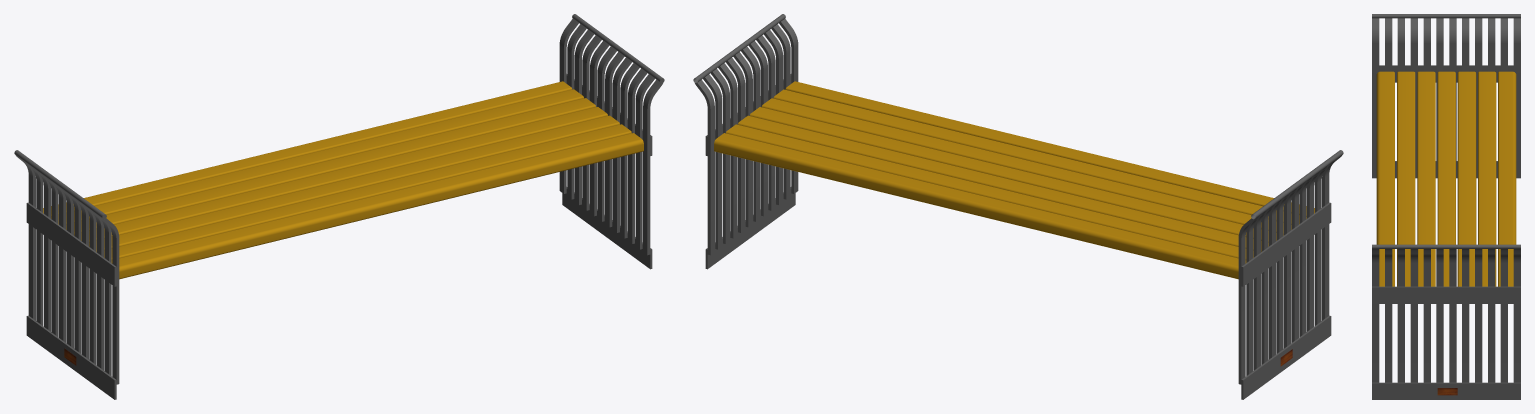
3 views of the same model, side by side, from view 1: azimuth 30°, elevation 25°; view 2: azimuth 150°, elevation 25°; view 3: azimuth 270°, elevation 25° (orthographic). The views are drawn at different scales.
Parts seen in each view (by area): view 1: mesh43_mesh43-geometry, mesh35_mesh35-geometry, mesh39_mesh39-geometry, mesh37_mesh37-geometry, mesh41_mesh41-geometry, mesh33_mesh33-geometry, mesh45_mesh45-geometry, mesh2_mesh2-geometry, mesh4_mesh4-geometry, mesh65_mesh65-geometry, mesh49_mesh49-geometry, mesh64_mesh64-geometry (+24 smaller); view 2: mesh45_mesh45-geometry, mesh33_mesh33-geometry, mesh41_mesh41-geometry, mesh37_mesh37-geometry, mesh39_mesh39-geometry, mesh35_mesh35-geometry, mesh43_mesh43-geometry, mesh2_mesh2-geometry, mesh4_mesh4-geometry, mesh58_mesh58-geometry, mesh49_mesh49-geometry, mesh54_mesh54-geometry (+24 smaller); view 3: mesh41_mesh41-geometry, mesh39_mesh39-geometry, mesh43_mesh43-geometry, mesh45_mesh45-geometry, mesh33_mesh33-geometry, mesh35_mesh35-geometry, mesh37_mesh37-geometry, mesh47_mesh47-geometry, mesh49_mesh49-geometry, mesh54_mesh54-geometry, mesh55_mesh55-geometry, mesh56_mesh56-geometry (+26 smaller).
Boxes of the visible parts, <box> form: mesh43_mesh43-geometry: <box>111,133,643,279</box>; mesh35_mesh35-geometry: <box>104,124,631,259</box>; mesh39_mesh39-geometry: <box>89,115,619,251</box>; mesh37_mesh37-geometry: <box>74,107,607,242</box>; mesh41_mesh41-geometry: <box>66,98,595,234</box>; mesh33_mesh33-geometry: <box>51,89,583,224</box>; mesh45_mesh45-geometry: <box>43,81,572,216</box>; mesh2_mesh2-geometry: <box>26,202,116,286</box>; mesh4_mesh4-geometry: <box>26,315,116,399</box>; mesh65_mesh65-geometry: <box>643,80,663,255</box>; mesh49_mesh49-geometry: <box>562,187,652,269</box>; mesh64_mesh64-geometry: <box>635,74,654,249</box>; mesh45_mesh45-geometry: <box>714,133,1246,279</box>; mesh33_mesh33-geometry: <box>726,124,1253,259</box>; mesh41_mesh41-geometry: <box>738,115,1268,251</box>; mesh37_mesh37-geometry: <box>749,107,1283,242</box>; mesh39_mesh39-geometry: <box>761,98,1291,234</box>; mesh35_mesh35-geometry: <box>773,89,1306,224</box>; mesh43_mesh43-geometry: <box>785,81,1314,216</box>; mesh2_mesh2-geometry: <box>1241,202,1331,286</box>; mesh4_mesh4-geometry: <box>1241,315,1331,399</box>; mesh58_mesh58-geometry: <box>694,80,714,255</box>; mesh49_mesh49-geometry: <box>705,187,795,269</box>; mesh54_mesh54-geometry: <box>703,74,722,249</box>; mesh41_mesh41-geometry: <box>1457,71,1476,286</box>; mesh39_mesh39-geometry: <box>1417,71,1435,286</box>; mesh43_mesh43-geometry: <box>1376,71,1394,286</box>; mesh45_mesh45-geometry: <box>1498,71,1516,286</box>; mesh33_mesh33-geometry: <box>1478,71,1496,286</box>; mesh35_mesh35-geometry: <box>1397,71,1415,286</box>; mesh37_mesh37-geometry: <box>1437,71,1455,286</box>; mesh47_mesh47-geometry: <box>1372,286,1520,303</box>; mesh49_mesh49-geometry: <box>1372,382,1520,399</box>; mesh54_mesh54-geometry: <box>1500,249,1507,382</box>; mesh55_mesh55-geometry: <box>1475,249,1482,382</box>; mesh56_mesh56-geometry: <box>1449,249,1456,382</box>.
Bounding box in the file's own units: 0.9224 × 0.2947 × 0.2497.
